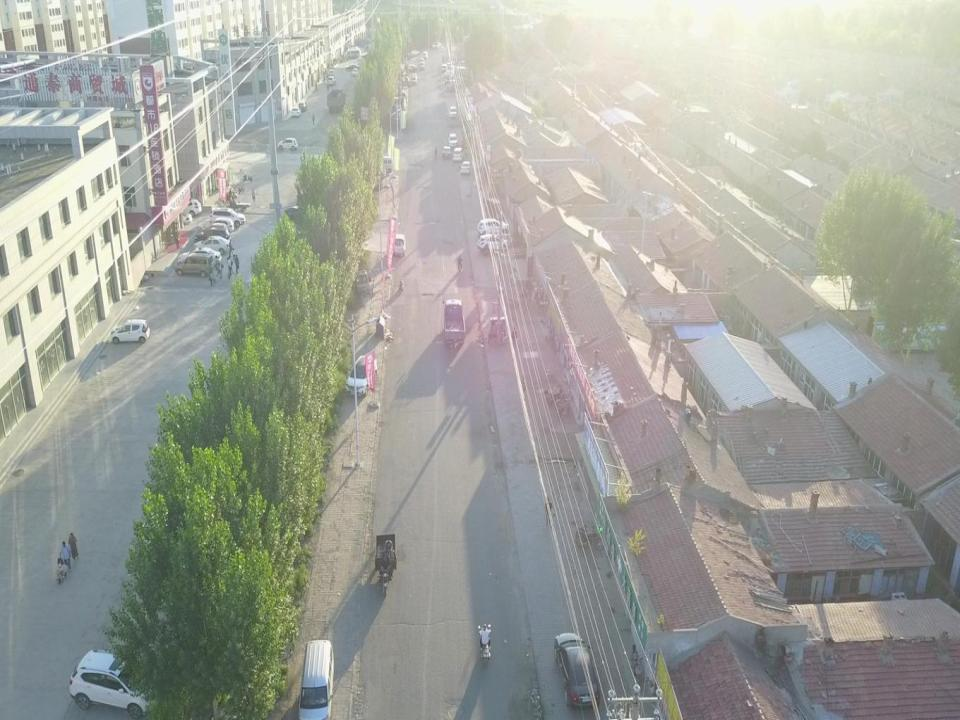car: (68, 644, 161, 716), (552, 628, 602, 712), (346, 353, 378, 398), (108, 317, 150, 348), (178, 247, 222, 273), (174, 253, 214, 278), (476, 232, 511, 256), (192, 236, 232, 256), (210, 206, 246, 227), (194, 228, 231, 248), (476, 217, 510, 238), (284, 204, 316, 225), (176, 192, 202, 217), (167, 202, 194, 226), (198, 222, 231, 239), (205, 216, 235, 234), (276, 136, 299, 152), (451, 145, 465, 163), (459, 159, 471, 175), (447, 134, 458, 150), (440, 144, 452, 158), (448, 104, 458, 116), (297, 101, 308, 111), (327, 74, 336, 86), (346, 64, 359, 71), (292, 107, 300, 118), (443, 68, 453, 76), (408, 63, 418, 71), (433, 41, 442, 49), (411, 75, 418, 84), (446, 61, 453, 69), (351, 68, 358, 76), (419, 60, 425, 69), (419, 56, 425, 65), (441, 62, 447, 71), (421, 51, 428, 58), (327, 69, 334, 76), (412, 72, 417, 80)
truck: (440, 296, 467, 344), (326, 86, 346, 114)
van: (299, 636, 334, 720), (371, 154, 397, 172), (393, 231, 407, 260), (344, 47, 362, 58), (347, 44, 361, 55)
